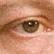eye: (23, 20, 39, 33)
